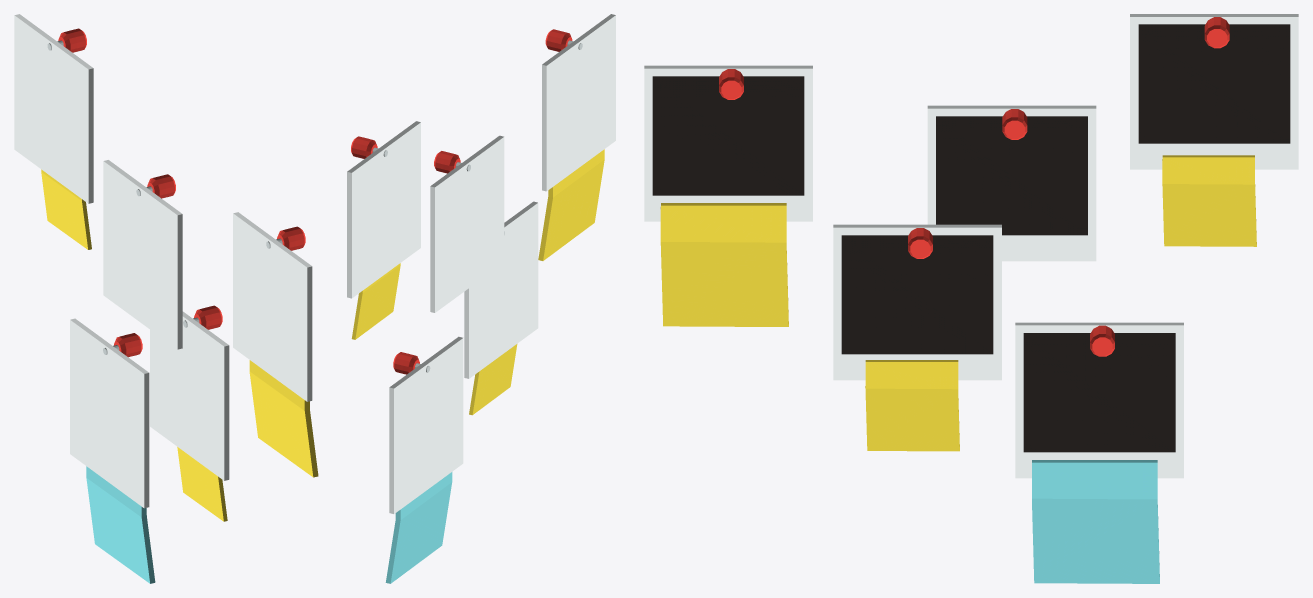
Rendered from polaroids-transformed.glb.
3 renders of one model, left to right at view 1: azimuth 30°, elevation 25°; view 2: azimuth 150°, elevation 25°; view 3: azimuth 270°, elevation 25°, orthographic. The views are drawn at different scales.
Parts seen in each view (by area): view 1: Node; view 2: Node; view 3: Node.
Part boxes in pixels (x1,y1,x2,y2): Node: (14,14,318,583); Node: (347,14,615,583); Node: (644,14,1298,583).
Size of the model in its own units: 0.0748 by 0.9183 by 0.97.
1 material, 1 textured.
